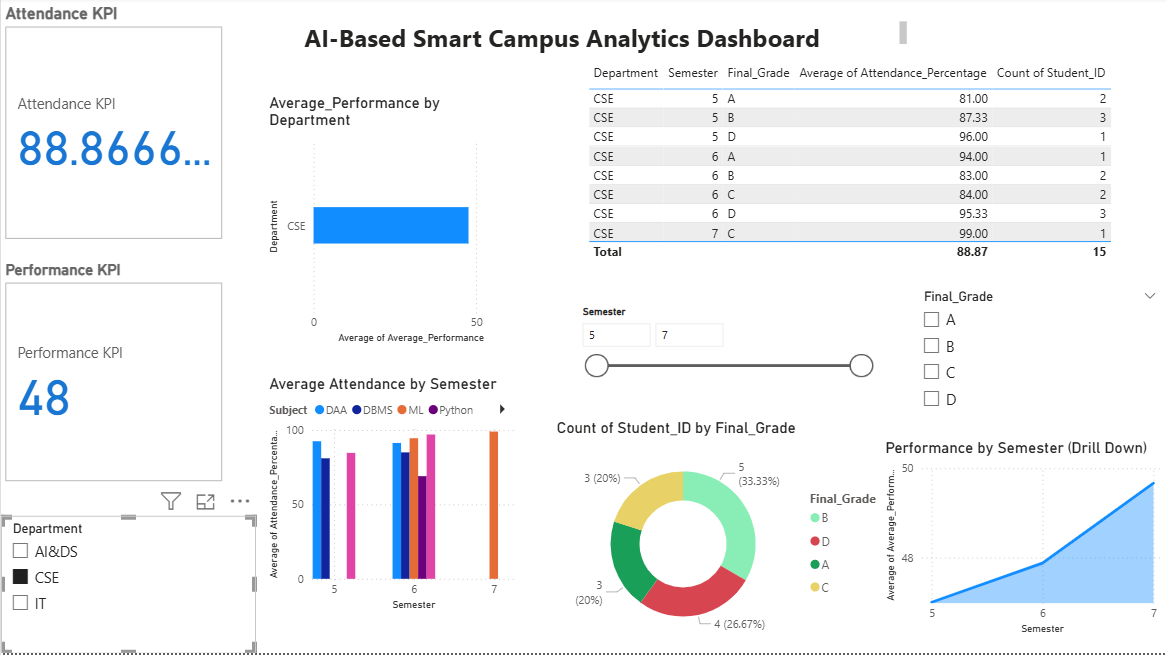

Layout of this report page (visuals, bound fields, positions):
{"tool":"powerbi","page":{"name":"Page 1","canvas":[1280,720],"ordinal":0},"visuals":[{"type":"cardVisual","title":"Attendance KPI","fields":{"Data":["Avg(5 student_performance.Attendance_Percentage)"]},"box":[0,7.1,248.6,264.3],"z":0},{"type":"cardVisual","title":"Performance KPI","fields":{"Data":["Avg(5 student_performance.Average_Performance)"]},"box":[0,290,248,248],"z":1000},{"type":"slicer","fields":{"Values":["5 student_performance.Department"]},"box":[0,570,280,150],"z":2000},{"type":"slicer","fields":{"Values":["5 student_performance.Semester"]},"box":[625.7,332.9,340,104.3],"z":3000},{"type":"clusteredBarChart","title":"Average_Performance by Department","fields":{"Category":["5 student_performance.Department"],"Y":["Avg(5 student_performance.Average_Performance)"]},"box":[290,105.7,280,280],"z":4000},{"type":"clusteredColumnChart","title":"Average Attendance by Semester","fields":{"Category":["5 student_performance.Semester"],"Y":["Avg(5 student_performance.Attendance_Percentage)"],"Series":["5 student_performance.Subject"]},"box":[290,414.3,280,264.3],"z":5000},{"type":"tableEx","fields":{"Values":["5 student_performance.Department","5 student_performance.Semester","5 student_performance.Final_Grade","Avg(5 student_performance.Attendance_Percentage)","CountNonNull(5 student_performance.Student_ID)"]},"box":[640,67.1,602.9,248.6],"z":6000},{"type":"donutChart","fields":{"Category":["5 student_performance.Final_Grade"],"Y":["CountNonNull(5 student_performance.Student_ID)"]},"box":[605.7,462.9,378.6,257.1],"z":7000},{"type":"slicer","fields":{"Values":["5 student_performance.Final_Grade"]},"box":[1000,315.7,280,147.1],"z":8000},{"type":"areaChart","title":"Performance by Semester (Drill Down)","fields":{"Category":["5 student_performance.Department","5 student_performance.Semester","5 student_performance.Student_ID"],"Y":["Avg(5 student_performance.Average_Performance)"]},"box":[965.7,484.3,314.3,220],"z":9000},{"type":"textbox","box":[328.6,21.4,671.4,45.7],"z":11000}]}

Visuals, with their boxes on the page's 1280x720 design canvas (x1, y1, x2, y2). These are canvas units, not pixel positions in the 1166x655 screenshot, which may show the page scaled, cropped or inside an application window:
"Attendance KPI" cardVisual: crop(0, 7, 249, 271)
"Performance KPI" cardVisual: crop(0, 290, 248, 538)
slicer - 5 student_performance.Department: crop(0, 570, 280, 720)
slicer - 5 student_performance.Semester: crop(626, 333, 966, 437)
"Average_Performance by Department" clusteredBarChart: crop(290, 106, 570, 386)
"Average Attendance by Semester" clusteredColumnChart: crop(290, 414, 570, 679)
tableEx - 5 student_performance.Department x 5 student_performance.Semester: crop(640, 67, 1243, 316)
donutChart - 5 student_performance.Final_Grade x CountNonNull(5 student_performance.Student_ID): crop(606, 463, 984, 720)
slicer - 5 student_performance.Final_Grade: crop(1000, 316, 1280, 463)
"Performance by Semester (Drill Down)" areaChart: crop(966, 484, 1280, 704)
textbox: crop(329, 21, 1000, 67)
